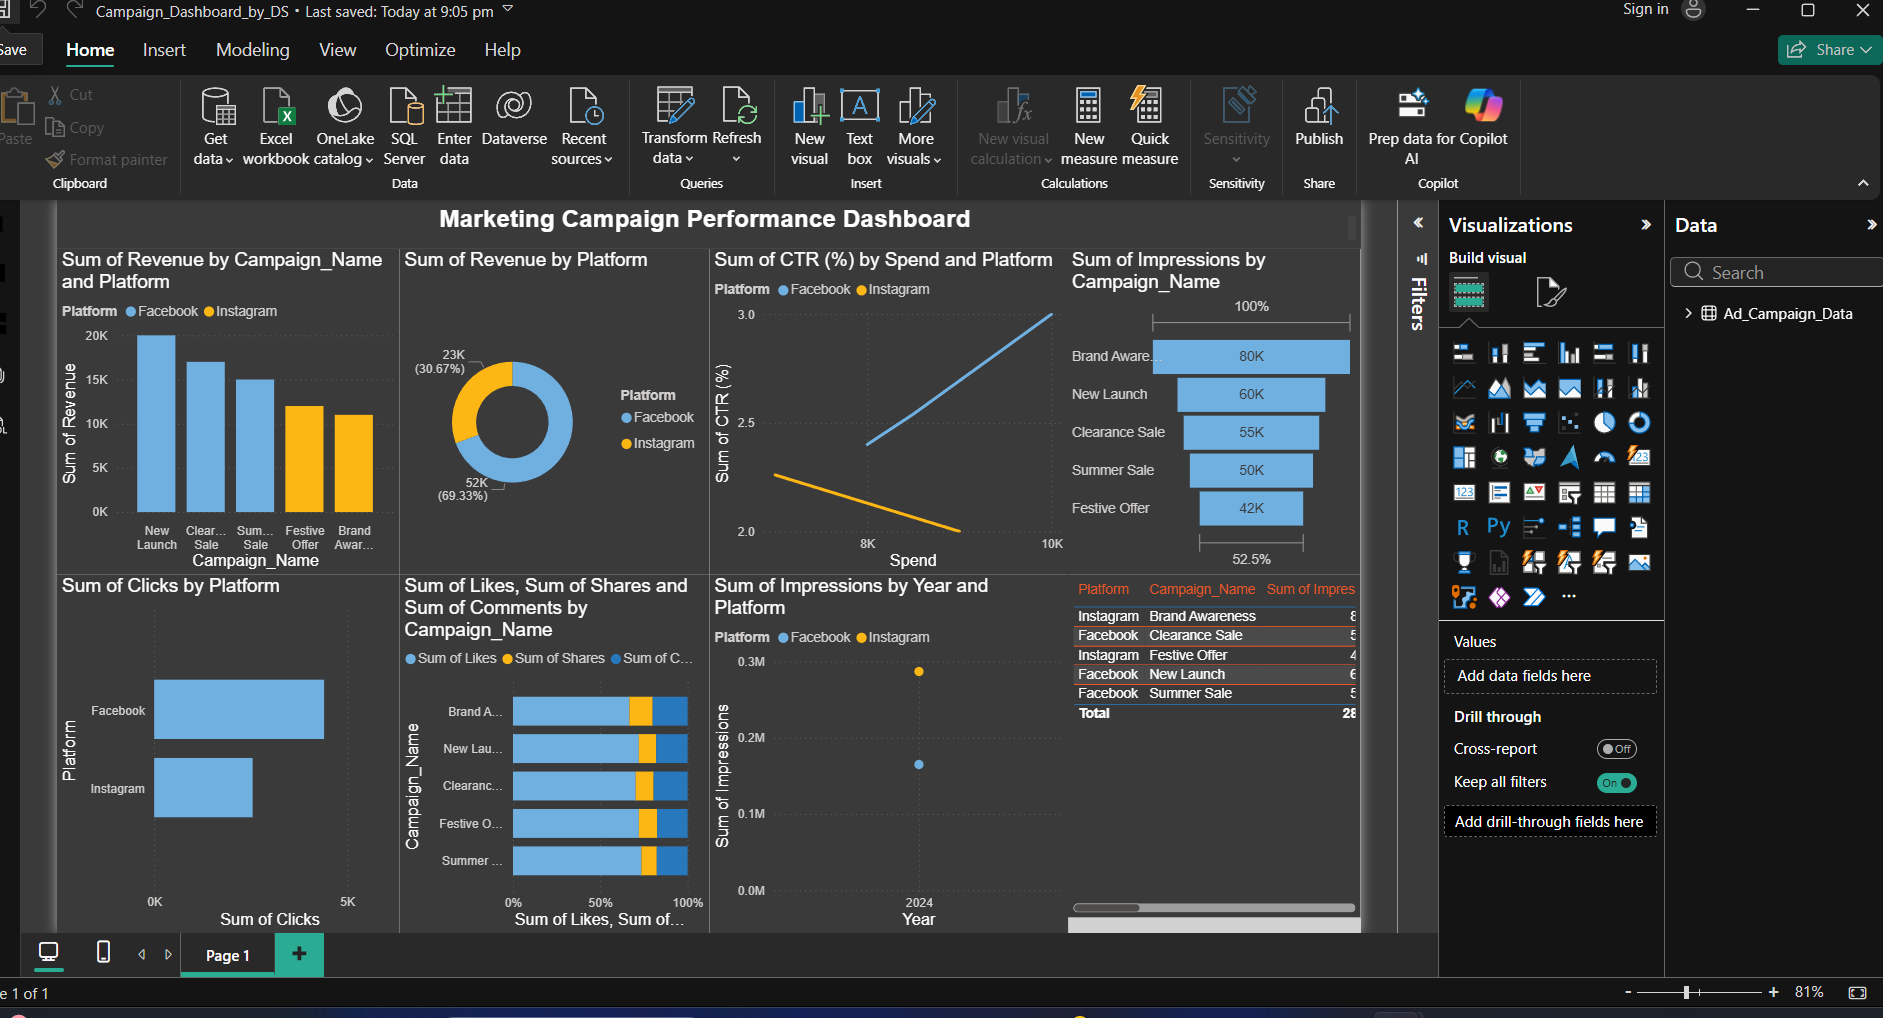

This screenshot's page, from the dashboard's own definition file:
{"tool":"powerbi","page":{"name":"Page 1","canvas":[1280,720],"ordinal":0},"visuals":[{"type":"columnChart","fields":{"Category":["Ad_Campaign_Data.Campaign_Name"],"Series":["Ad_Campaign_Data.Platform"],"Y":["Sum(Ad_Campaign_Data.Revenue)"]},"box":[0,48,336,320],"z":0},{"type":"barChart","fields":{"Category":["Ad_Campaign_Data.Platform"],"Y":["Sum(Ad_Campaign_Data.Clicks)"]},"box":[0,368,336,352],"z":1000},{"type":"donutChart","fields":{"Category":["Ad_Campaign_Data.Platform"],"Y":["Sum(Ad_Campaign_Data.Revenue)"]},"box":[336,48,304,320],"z":2000},{"type":"hundredPercentStackedBarChart","fields":{"Category":["Ad_Campaign_Data.Campaign_Name"],"Y":["Sum(Ad_Campaign_Data.Likes)","Sum(Ad_Campaign_Data.Shares)","Sum(Ad_Campaign_Data.Comments)"]},"box":[336,368,304,352],"z":3000},{"type":"lineChart","fields":{"Category":["Ad_Campaign_Data.Spend"],"Y":["Sum(Ad_Campaign_Data.CTR (%))"],"Series":["Ad_Campaign_Data.Platform"]},"box":[640,48,352,320],"z":4000},{"type":"funnel","fields":{"Category":["Ad_Campaign_Data.Campaign_Name"],"Y":["Sum(Ad_Campaign_Data.Impressions)"]},"box":[992,48,288,320],"z":5000},{"type":"stackedAreaChart","fields":{"Category":["Ad_Campaign_Data.Date.Variation.Date Hierarchy.Year","Ad_Campaign_Data.Date.Variation.Date Hierarchy.Quarter","Ad_Campaign_Data.Date.Variation.Date Hierarchy.Month","Ad_Campaign_Data.Date.Variation.Date Hierarchy.Day"],"Y":["Sum(Ad_Campaign_Data.Impressions)"],"Series":["Ad_Campaign_Data.Platform"]},"box":[640,368,352,352],"z":6000},{"type":"tableEx","fields":{"Values":["Ad_Campaign_Data.Platform","Ad_Campaign_Data.Campaign_Name","Sum(Ad_Campaign_Data.Impressions)","Sum(Ad_Campaign_Data.Clicks)","Sum(Ad_Campaign_Data.CTR (%))","Sum(Ad_Campaign_Data.Spend)","Sum(Ad_Campaign_Data.Conversions)","Sum(Ad_Campaign_Data.Likes)","Sum(Ad_Campaign_Data.Revenue)","Sum(Ad_Campaign_Data.Comments)","Sum(Ad_Campaign_Data.Shares)"]},"box":[992,368,288,336],"z":7000},{"type":"actionButton","box":[0,0,100,40],"z":8000},{"type":"textbox","box":[0,0,1280,48],"z":9000},{"type":"qnaVisual","box":[1264,0,16,16],"z":10000}]}

Visuals, with their boxes on the page's 1280x720 design canvas (x1, y1, x2, y2). These are canvas units, not pixel positions in the 1883x1018 screenshot, which may show the page scaled, cropped or inside an application window:
columnChart - Ad_Campaign_Data.Campaign_Name x Ad_Campaign_Data.Platform: (0,48,336,368)
barChart - Ad_Campaign_Data.Platform x Sum(Ad_Campaign_Data.Clicks): (0,368,336,720)
donutChart - Ad_Campaign_Data.Platform x Sum(Ad_Campaign_Data.Revenue): (336,48,640,368)
hundredPercentStackedBarChart - Ad_Campaign_Data.Campaign_Name x Sum(Ad_Campaign_Data.Likes): (336,368,640,720)
lineChart - Ad_Campaign_Data.Spend x Sum(Ad_Campaign_Data.CTR (%)): (640,48,992,368)
funnel - Ad_Campaign_Data.Campaign_Name x Sum(Ad_Campaign_Data.Impressions): (992,48,1280,368)
stackedAreaChart - Ad_Campaign_Data.Date.Variation.Date Hierarchy.Year x Ad_Campaign_Data.Date.Variation.Date Hierarchy.Quarter: (640,368,992,720)
tableEx - Ad_Campaign_Data.Platform x Ad_Campaign_Data.Campaign_Name: (992,368,1280,704)
actionButton: (0,0,100,40)
textbox: (0,0,1280,48)
qnaVisual: (1264,0,1280,16)
